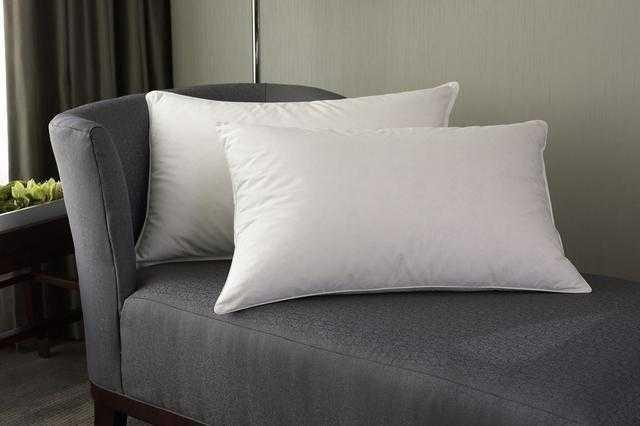pillow: (212, 118, 592, 314), (132, 80, 460, 268)
